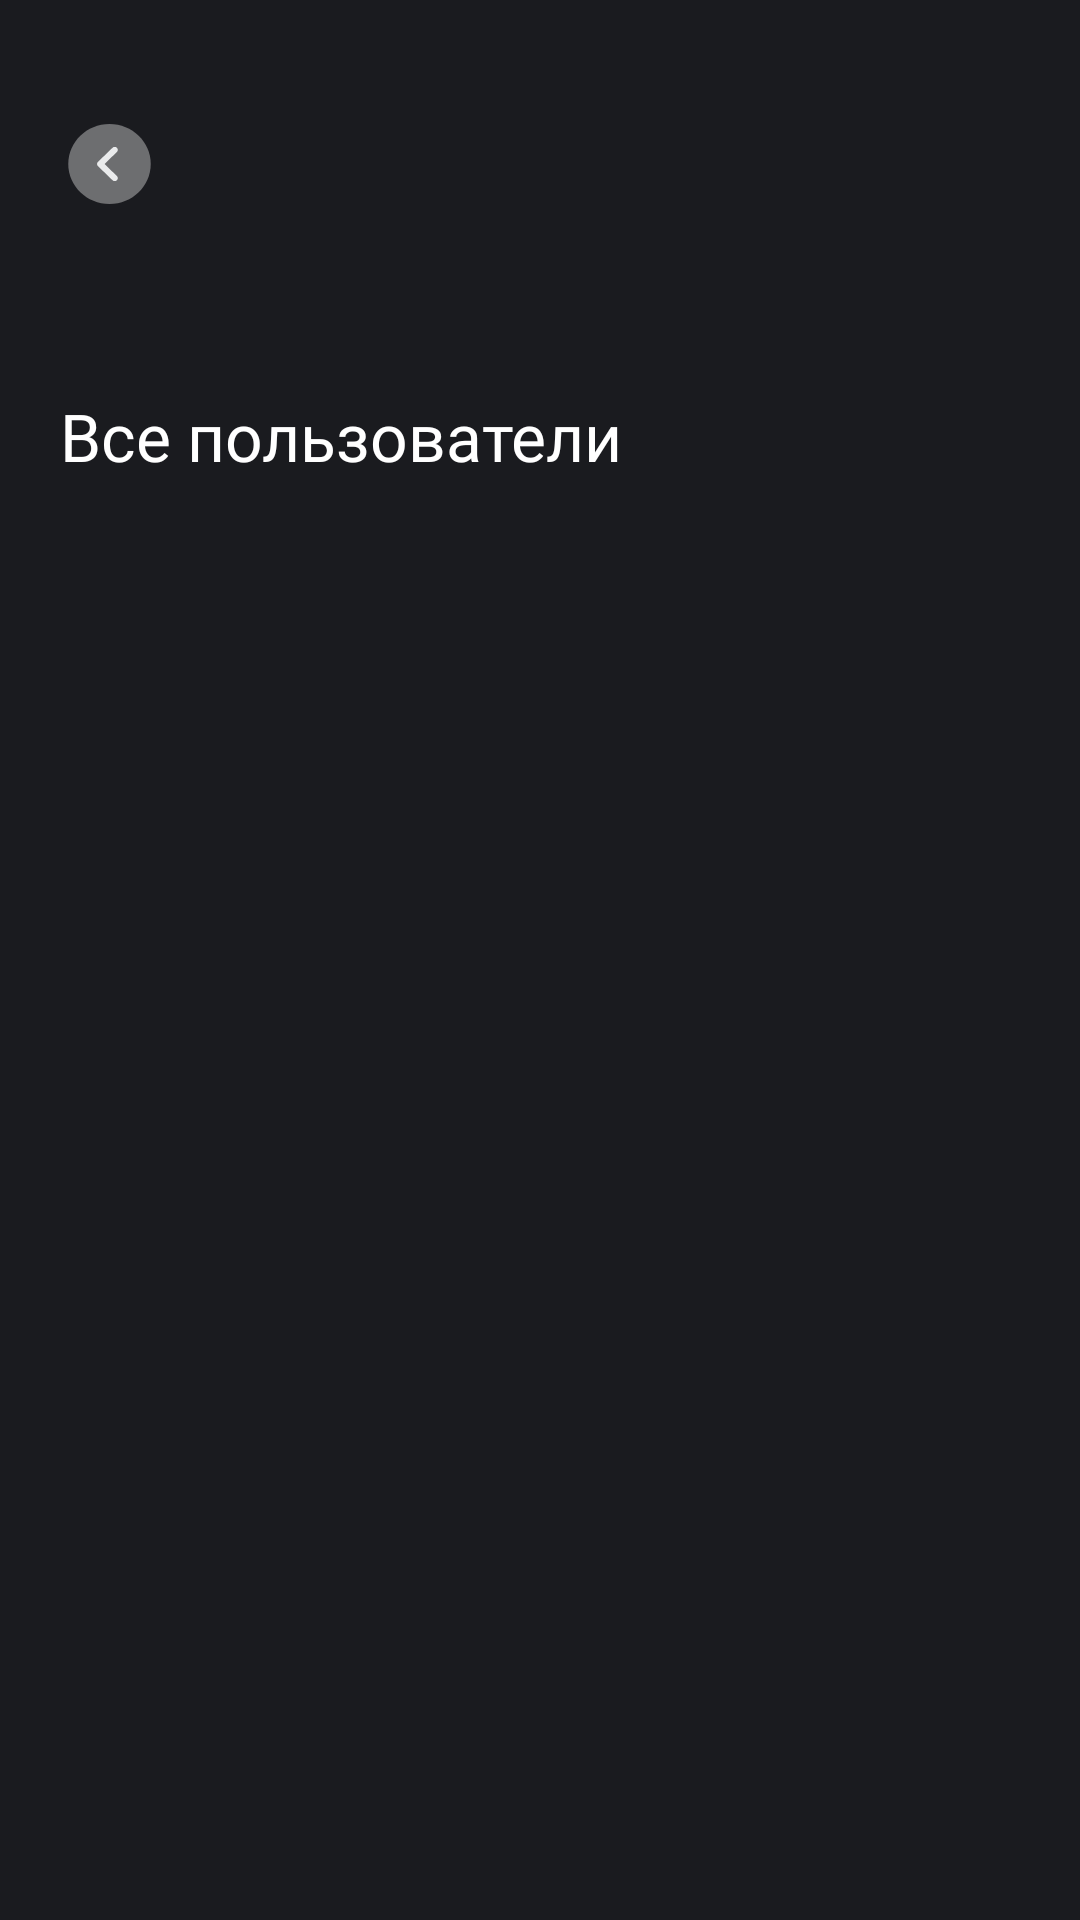

Where to tap for icons on this 1080px×1920px app screen, as (x=x, y=y):
back: (x=109, y=164)
